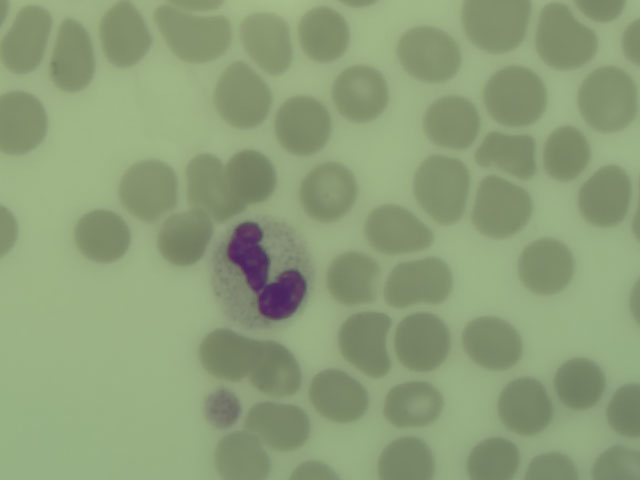Platelets: (204, 394, 235, 422)
RBC: (573, 65, 640, 128), (154, 4, 222, 64), (49, 15, 100, 90), (491, 376, 553, 435), (99, 1, 152, 67), (213, 63, 270, 124), (517, 238, 577, 293), (538, 1, 593, 59), (394, 309, 448, 366), (417, 156, 465, 218), (396, 27, 457, 75), (310, 371, 372, 417), (341, 314, 390, 372), (212, 429, 267, 480), (471, 180, 519, 237), (365, 205, 430, 247), (1, 93, 48, 151), (470, 429, 522, 480), (245, 338, 295, 391), (75, 209, 127, 259), (326, 252, 378, 302), (198, 331, 250, 381), (158, 211, 210, 261), (491, 67, 543, 117), (427, 100, 479, 150), (301, 164, 353, 214), (297, 5, 349, 55), (241, 12, 293, 62), (335, 67, 387, 117), (277, 97, 329, 147), (227, 148, 279, 198), (180, 151, 232, 201), (123, 161, 175, 211), (579, 170, 631, 220), (536, 125, 588, 175), (463, 1, 515, 50), (389, 262, 451, 302), (481, 127, 543, 167), (376, 440, 438, 480), (244, 403, 306, 443), (462, 321, 524, 361), (381, 379, 438, 422), (557, 361, 605, 407), (605, 381, 640, 433), (592, 445, 640, 480), (527, 451, 578, 480), (1, 203, 20, 259), (292, 462, 337, 480)
WBC: (214, 225, 314, 321)
